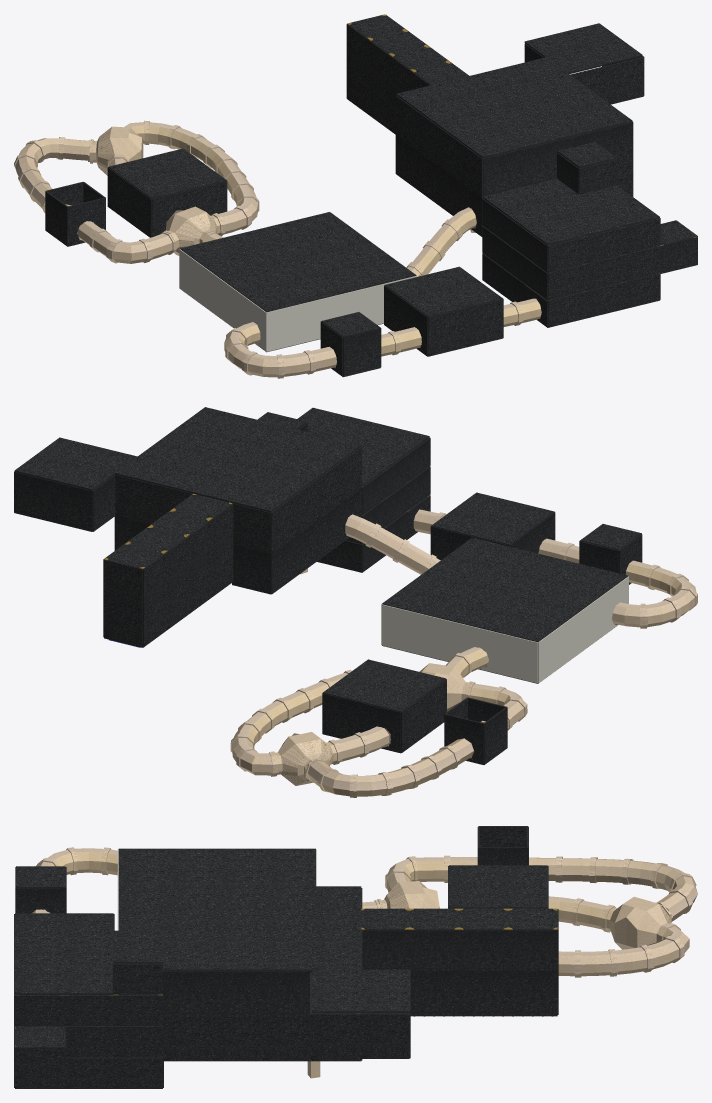
Rendered from modul_complet-2.glb.
3 views of the same model, one above another, from view 1: azimuth 30°, elevation 25°; view 2: azimuth 150°, elevation 25°; view 3: azimuth 270°, elevation 25° (orthographic). The views are drawn at different scales.
Visible parts, largest first — view 1: tile.206, tile.127, tuillot.002, tile.205, tuillot.008, tuillot.003, tuillot.004, tuillot.018, tuillot_hub.003, tuillot_hub.001, tile.201, tile.182 (+99 smaller); view 2: tile.127, tile.206, tile.205, tuillot.003, tuillot.002, tuillot.008, tuillot_hub.001, tuillot.018, tile.204, tile.203, tile.288, tile.170 (+83 smaller); view 3: tile.206, tile.205, tuillot.003, tuillot.002, tuillot_hub.001, tile.286, tile.200, tile.199, tile.284, tile.282, tile.278, tile.247 (+69 smaller).
Boxes of the visible parts, bbox=[...] form: tile.206: bbox=[395, 95, 633, 197]; tile.127: bbox=[179, 249, 416, 351]; tuillot.002: bbox=[124, 120, 259, 236]; tile.205: bbox=[395, 135, 633, 236]; tuillot.008: bbox=[224, 322, 336, 378]; tuillot.003: bbox=[14, 137, 91, 212]; tuillot.004: bbox=[77, 221, 175, 263]; tuillot.018: bbox=[406, 207, 476, 276]; tuillot_hub.003: bbox=[164, 206, 223, 255]; tuillot_hub.001: bbox=[89, 126, 143, 175]; tile.201: bbox=[606, 57, 643, 104]; tile.182: bbox=[465, 299, 503, 347]; tile.127: bbox=[381, 576, 628, 683]; tile.206: bbox=[115, 446, 362, 553]; tile.205: bbox=[114, 488, 362, 594]; tuillot.003: bbox=[305, 738, 473, 797]; tuillot.002: bbox=[230, 670, 352, 776]; tuillot.008: bbox=[612, 560, 697, 628]; tuillot_hub.001: bbox=[272, 732, 339, 785]; tuillot.018: bbox=[345, 514, 440, 574]; tile.204: bbox=[53, 481, 92, 531]; tile.203: bbox=[14, 472, 53, 522]; tile.288: bbox=[103, 597, 142, 646]; tile.170: bbox=[322, 693, 361, 738]; tile.206: bbox=[163, 888, 362, 1016]; tile.205: bbox=[163, 1016, 362, 1061]; tuillot.003: bbox=[529, 856, 697, 921]; tuillot.002: bbox=[558, 923, 689, 977]; tuillot_hub.001: bbox=[603, 896, 672, 949]; tile.286: bbox=[508, 970, 557, 1015]; tile.200: bbox=[311, 1013, 360, 1058]; tile.199: bbox=[360, 1013, 409, 1058]; tile.284: bbox=[459, 970, 508, 1015]; tile.282: bbox=[410, 970, 458, 1015]; tile.278: bbox=[508, 930, 557, 970]; tile.247: bbox=[459, 930, 508, 970].
Bounding box in the file's own units: 136 × 33.53 × 139.
Materials: 15 (12 with a texture image).
